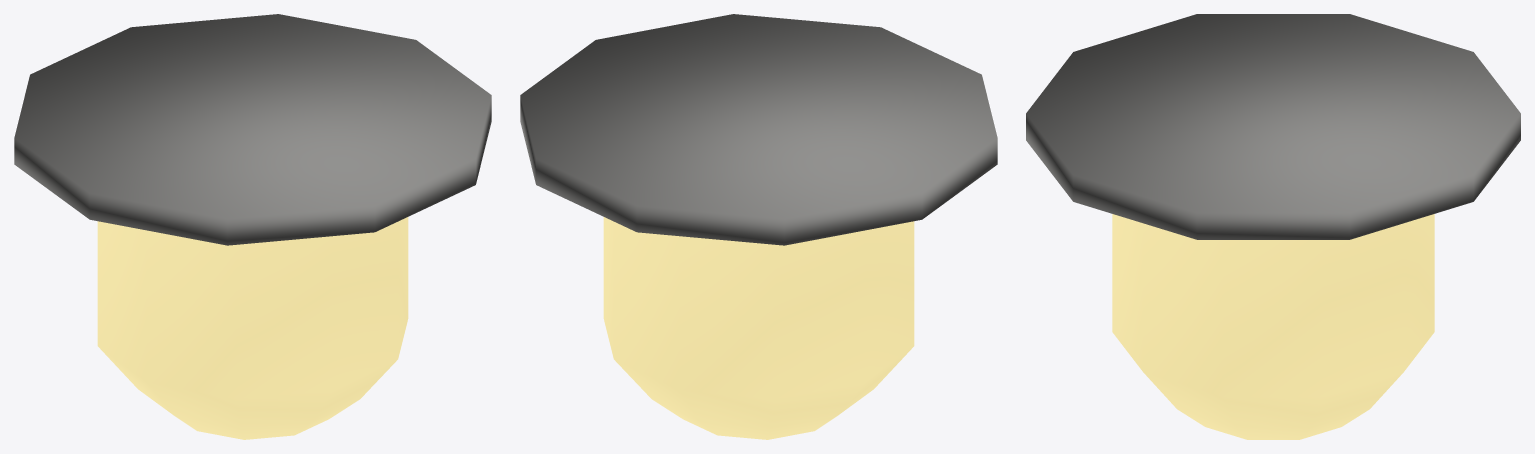
File: Light_Small.glb
The picture shows the model from 3 angles, left to right: view 1: azimuth 30°, elevation 25°; view 2: azimuth 150°, elevation 25°; view 3: azimuth 270°, elevation 25°; orthographic projection.
Visible parts, largest first — view 1: Light_Small; view 2: Light_Small; view 3: Light_Small.
Boxes of the visible parts, box(x1,y1,x2,y2) form: Light_Small: box(14, 14, 491, 439); Light_Small: box(520, 14, 997, 439); Light_Small: box(1026, 14, 1520, 439).
Bounding box in the file's own units: 0.1552 × 0.1064 × 0.1632.
